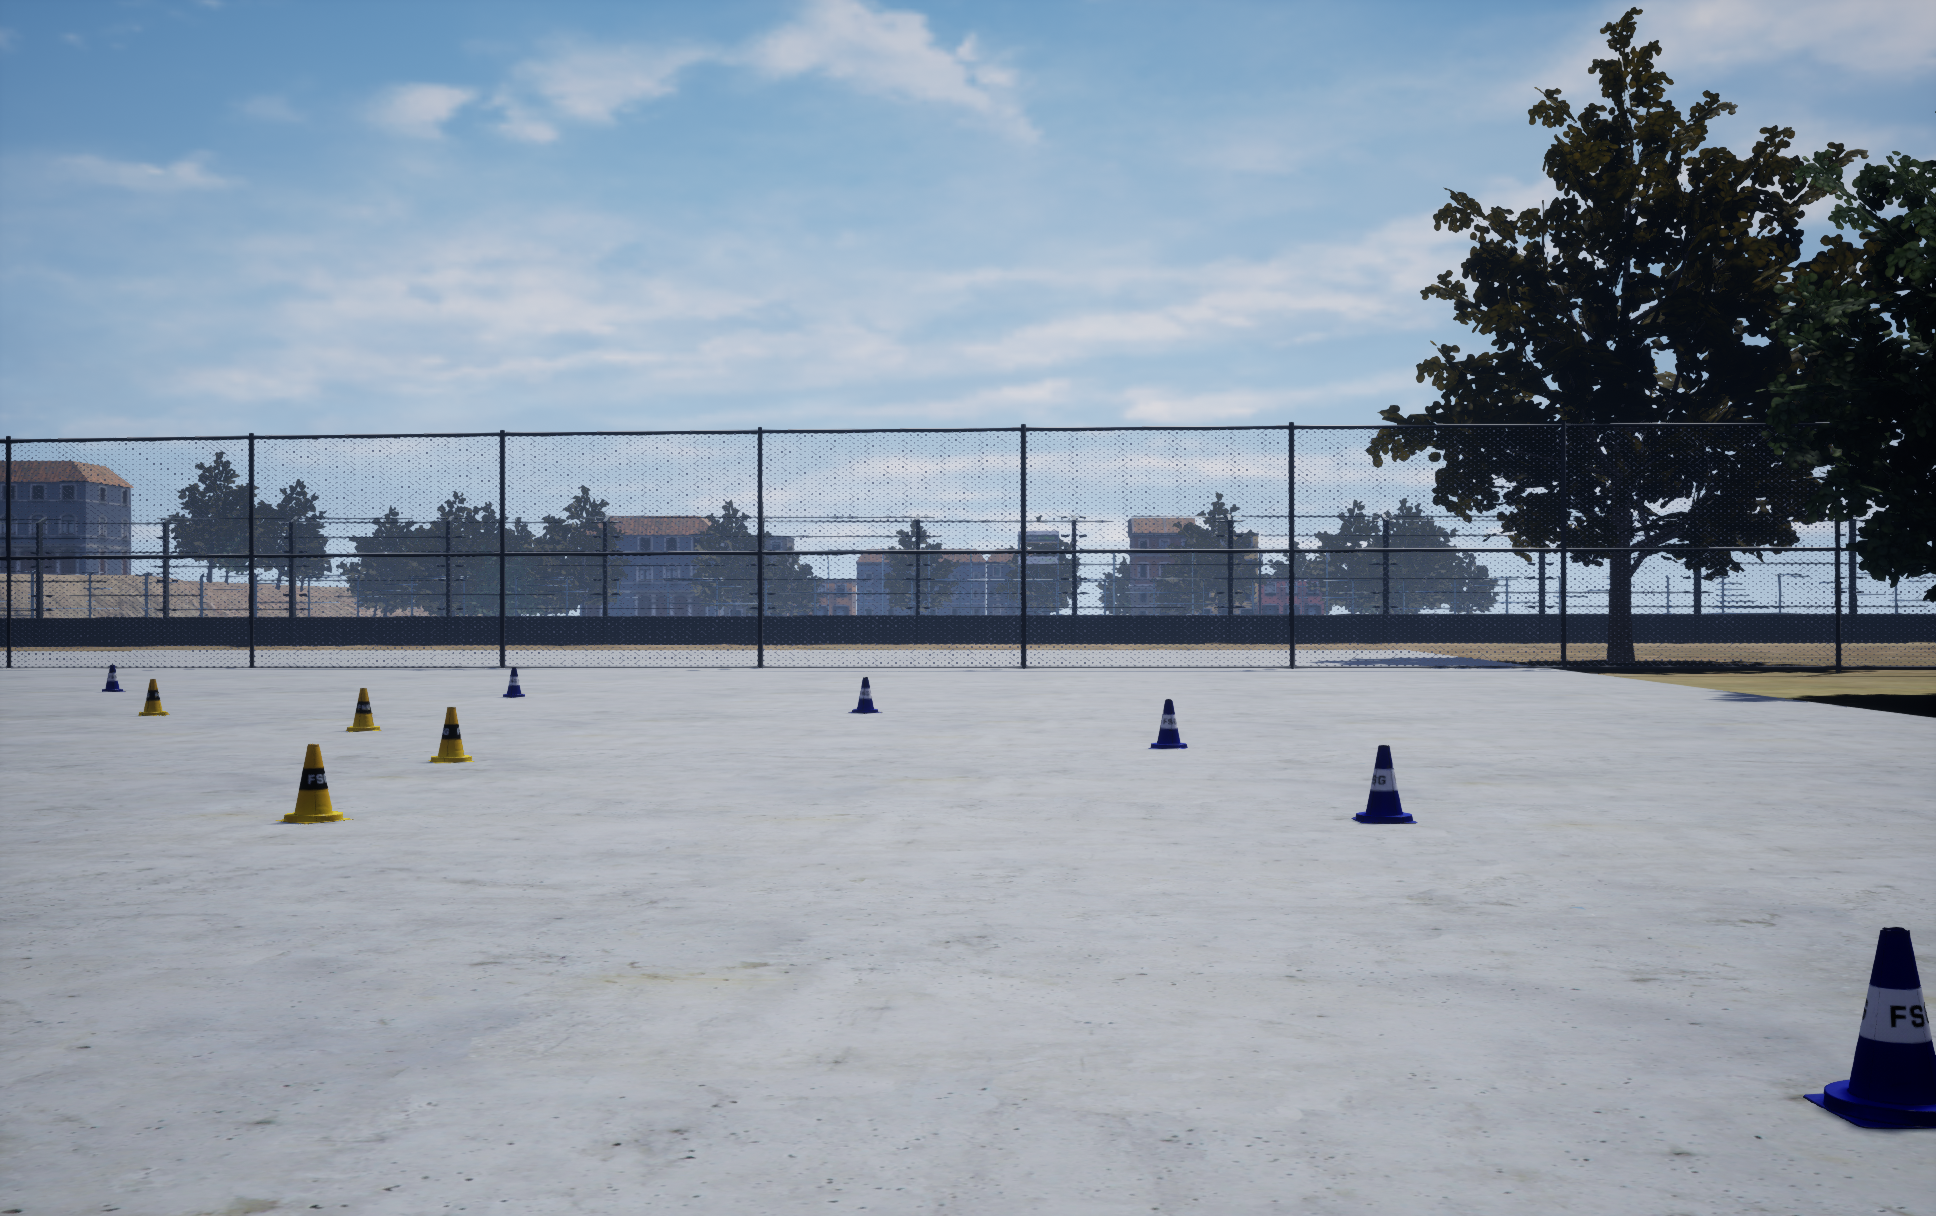blue: (275, 744, 353, 822), (429, 707, 473, 762), (346, 688, 381, 731), (139, 679, 170, 714)
yellow: (1803, 927, 1935, 1128), (1350, 745, 1418, 822), (1147, 699, 1187, 748), (848, 677, 883, 713), (503, 668, 524, 698), (102, 665, 125, 691)
